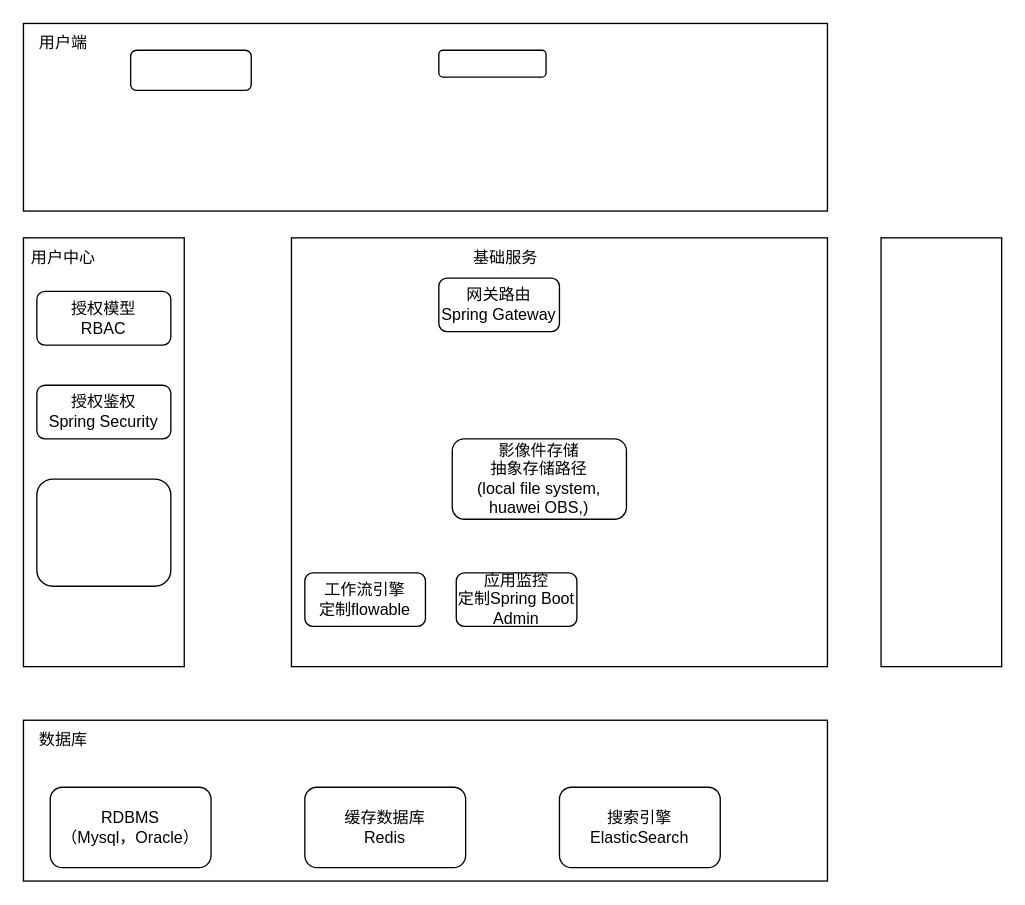
Image size: 1025x905. Some labels were removed from this diagram. Each missing label, with the centre of its shape:
"app" goes at (492,63).
"web" goes at (190,69).
"基于领域驱动设计方法论的代码规范" goes at (941,452).
"支持多种登录方式 （用户密码，手机短信，微信支付宝验证）" goes at (103,532).
